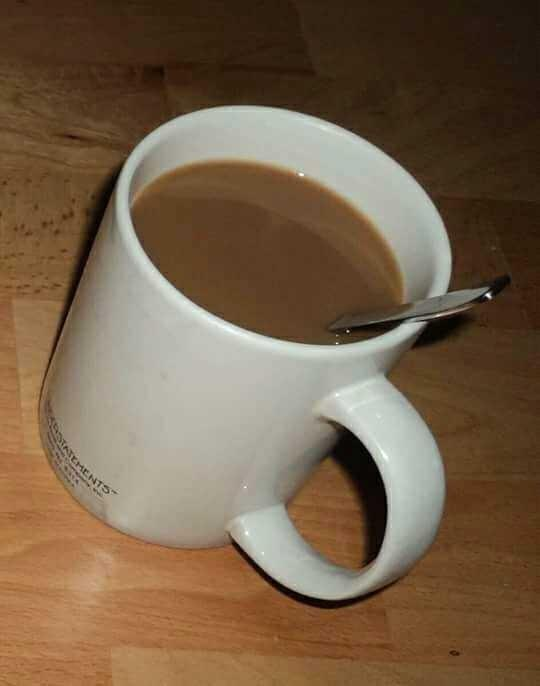produk_susu: (143, 135, 374, 324)
